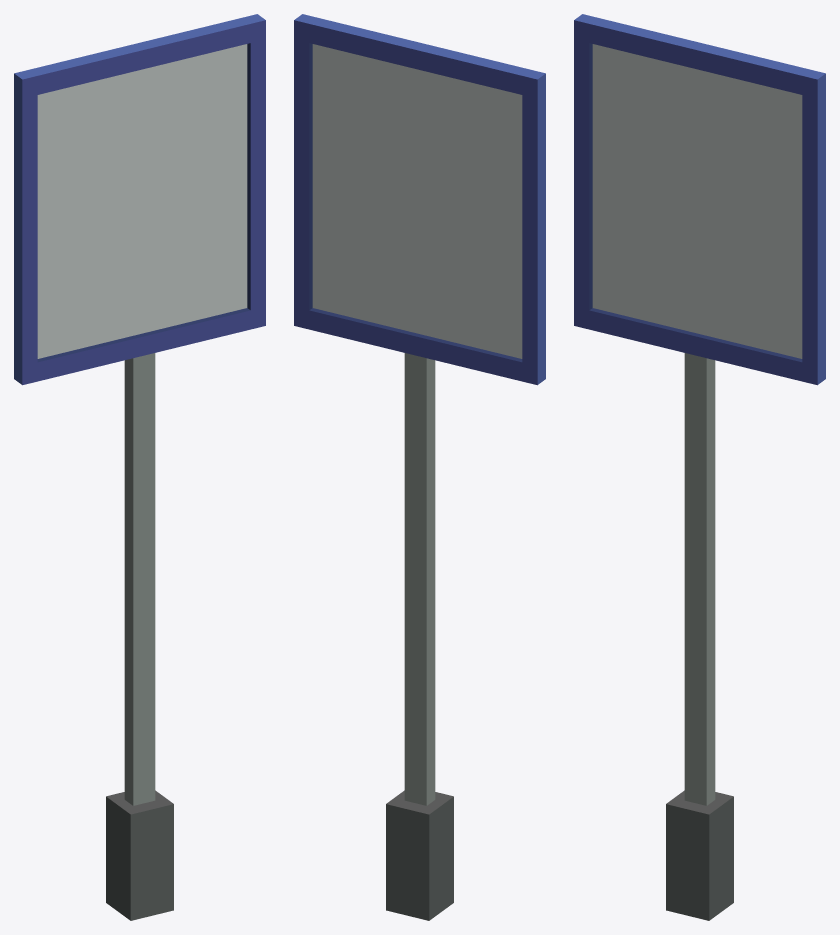
The model's file is SignPost_Square.glb.
The picture shows the model from 3 angles, left to right: view 1: azimuth 30°, elevation 25°; view 2: azimuth 150°, elevation 25°; view 3: azimuth 330°, elevation 25°; orthographic projection.
Parts seen in each view (by area): view 1: SignPost_Square; view 2: SignPost_Square; view 3: SignPost_Square.
Boxes of the visible parts, x1,y1,x2,y2 form: SignPost_Square: [14, 14, 265, 920]; SignPost_Square: [294, 14, 545, 920]; SignPost_Square: [574, 14, 825, 920].
Size of what is drawn, in the model's own units: 0.73 by 2.46 by 0.1293.
Materials: 1 (1 with a texture image).
